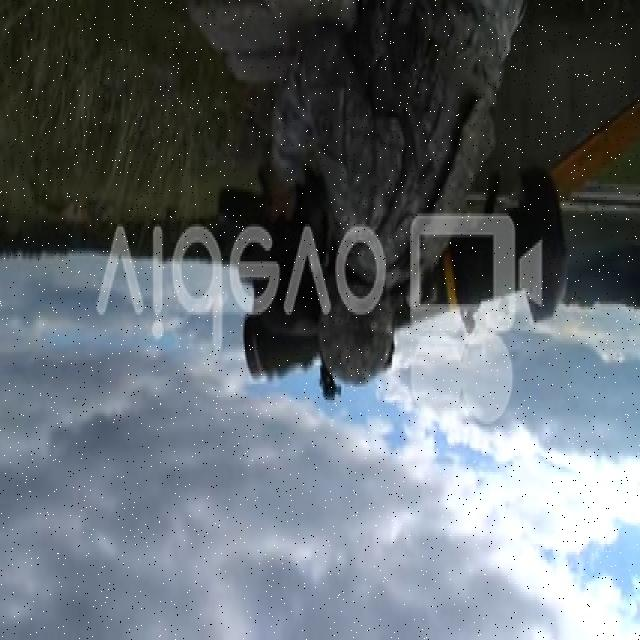bazooka: (237, 169, 574, 392)
